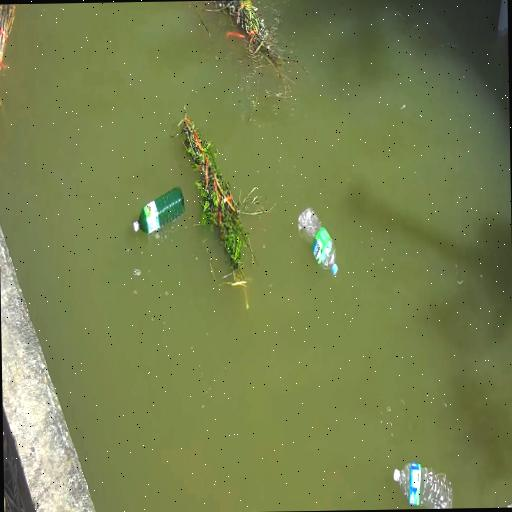plastic: (296, 197, 338, 280), (391, 464, 454, 510), (132, 188, 184, 238)
twig: (177, 116, 252, 306), (208, 0, 296, 86), (0, 4, 25, 103)
